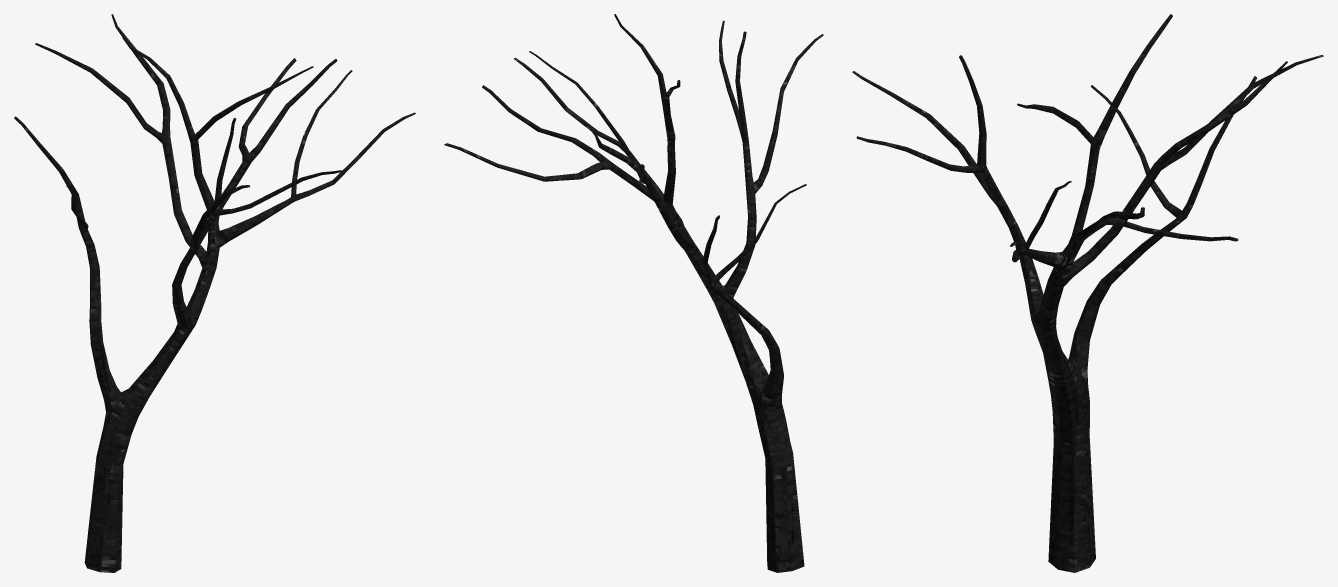
File: 1_BURNT_01_13-transformed.glb
3 renders of one model, left to right at view 1: azimuth 30°, elevation 25°; view 2: azimuth 150°, elevation 25°; view 3: azimuth 270°, elevation 25°, orthographic. The views are drawn at different scales.
Visible parts, largest first — view 1: default; view 2: default; view 3: default.
Boxes of the visible parts, x1,y1,x2,y2 form: default: [14, 14, 415, 572]; default: [444, 14, 823, 572]; default: [852, 14, 1323, 572].
Bounding box in the file's own units: 5.35 × 7.86 × 5.73.
Materials: 1 (1 with a texture image).
